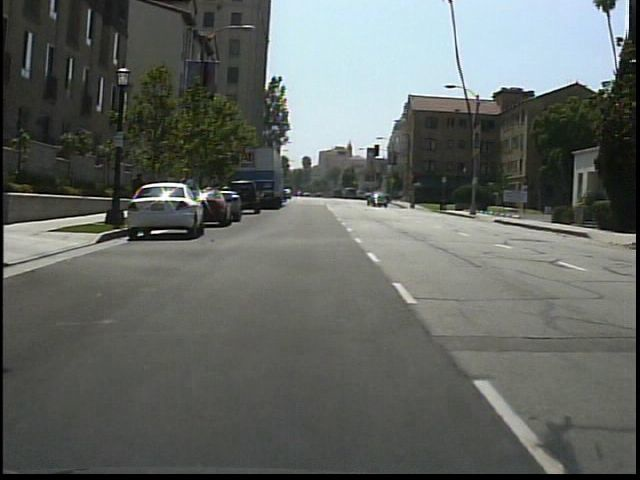person: (131, 167, 150, 217)
